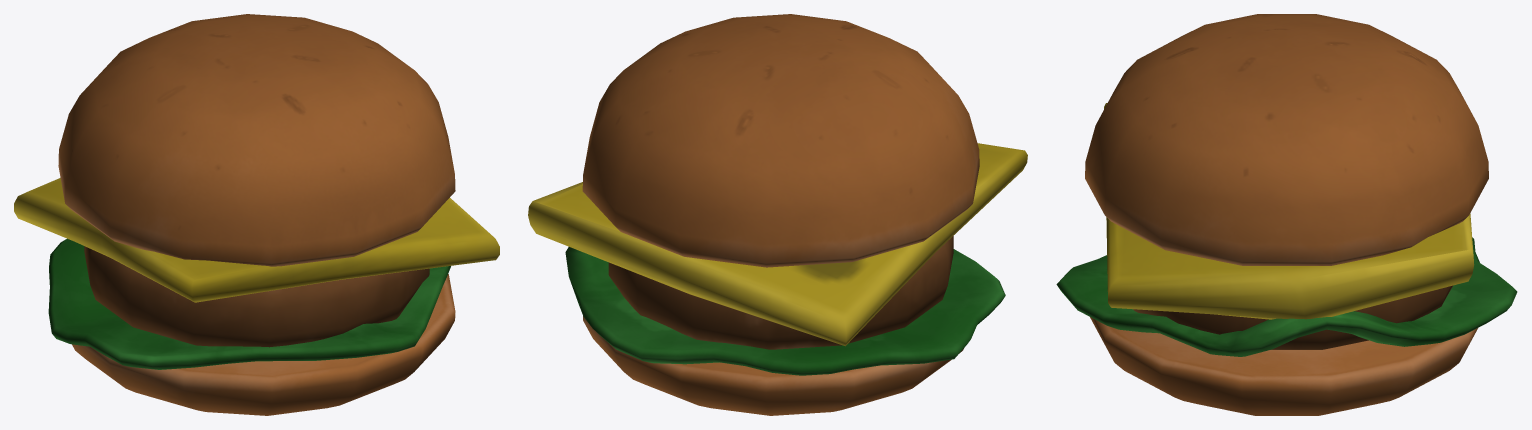
The model's file is MSH_Hamburguesa_P_C_L_Q.fbx.
The picture shows the model from 3 angles, left to right: view 1: azimuth 30°, elevation 25°; view 2: azimuth 150°, elevation 25°; view 3: azimuth 270°, elevation 25°; orthographic projection.
Visible parts, largest first — view 1: MSH_Hamburguesa_P_C_L_Q; view 2: MSH_Hamburguesa_P_C_L_Q; view 3: MSH_Hamburguesa_P_C_L_Q.
Boxes of the visible parts, x1,y1,x2,y2 form: MSH_Hamburguesa_P_C_L_Q: (14, 14, 499, 415); MSH_Hamburguesa_P_C_L_Q: (528, 14, 1027, 415); MSH_Hamburguesa_P_C_L_Q: (1056, 14, 1517, 415).
Size of the model in its own units: 16.25 by 16.87 by 12.68.
Materials: 1 (1 with a texture image).
